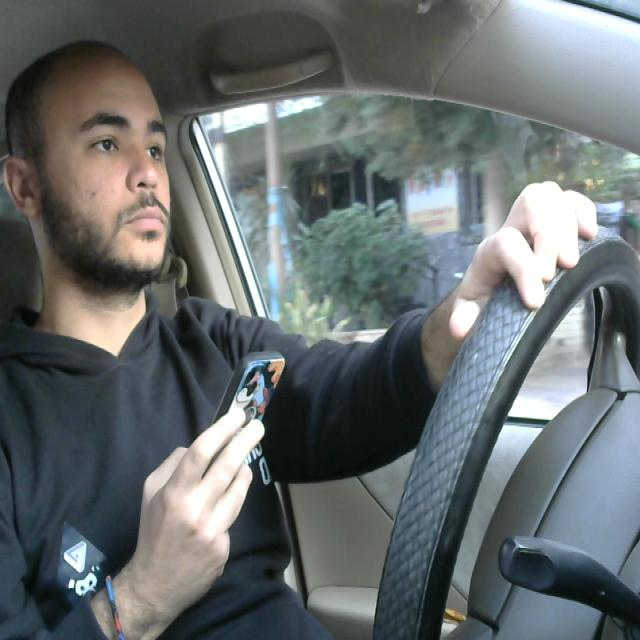mobile use: (197, 343, 289, 506)
